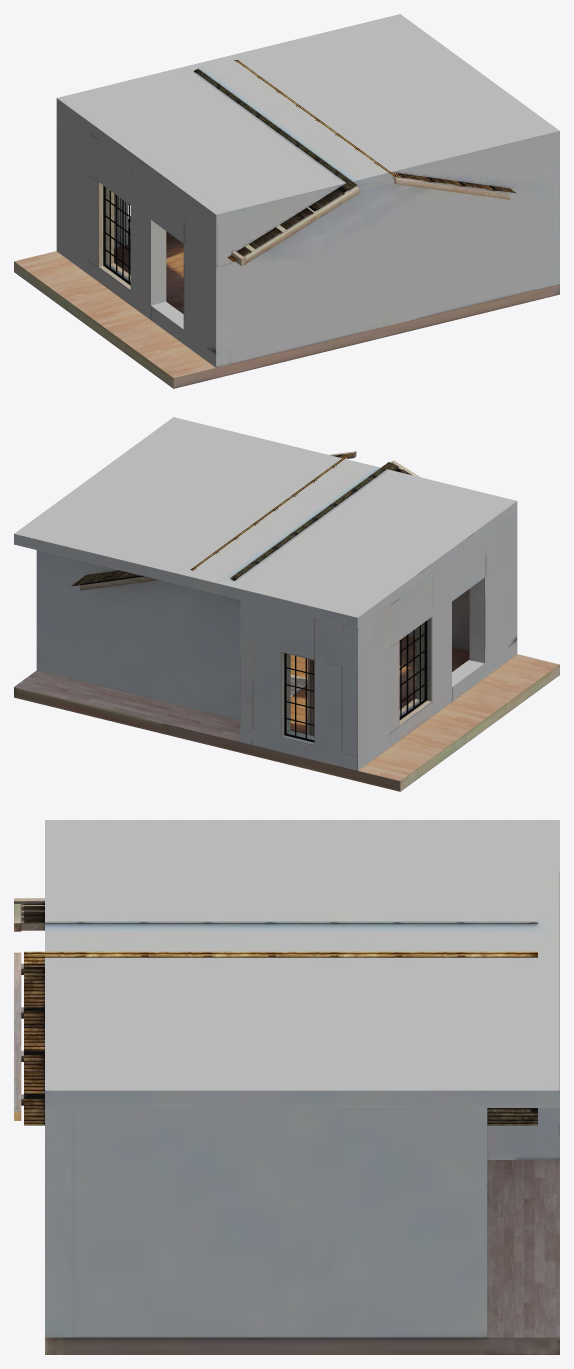
The picture shows the model from 3 angles, top to bottom: view 1: azimuth 30°, elevation 25°; view 2: azimuth 150°, elevation 25°; view 3: azimuth 270°, elevation 25°; orthographic projection. The views are drawn at different scales.
Visible parts, largest first — view 1: walls, floor, carpet, beams, windows, curtain; view 2: walls, floor, windows, carpet, beams, curtain; view 3: walls, floor, carpet, beams.
Part boxes in pixels (<box>): walls: <box>56,14,559,367</box>; floor: <box>14,231,559,388</box>; carpet: <box>196,59,516,262</box>; beams: <box>194,60,510,265</box>; windows: <box>98,181,130,290</box>; curtain: <box>114,193,128,248</box>; walls: <box>14,417,517,770</box>; floor: <box>14,636,559,791</box>; windows: <box>281,616,432,745</box>; carpet: <box>70,453,409,696</box>; beams: <box>80,451,420,590</box>; curtain: <box>307,659,314,736</box>; walls: <box>45,820,559,1337</box>; floor: <box>45,1160,559,1354</box>; carpet: <box>24,903,537,1125</box>; beams: <box>14,898,537,1120</box>.
Bounding box in the file's own units: 11.27 × 4.61 × 8.55.
Materials: 18 (15 with a texture image).
